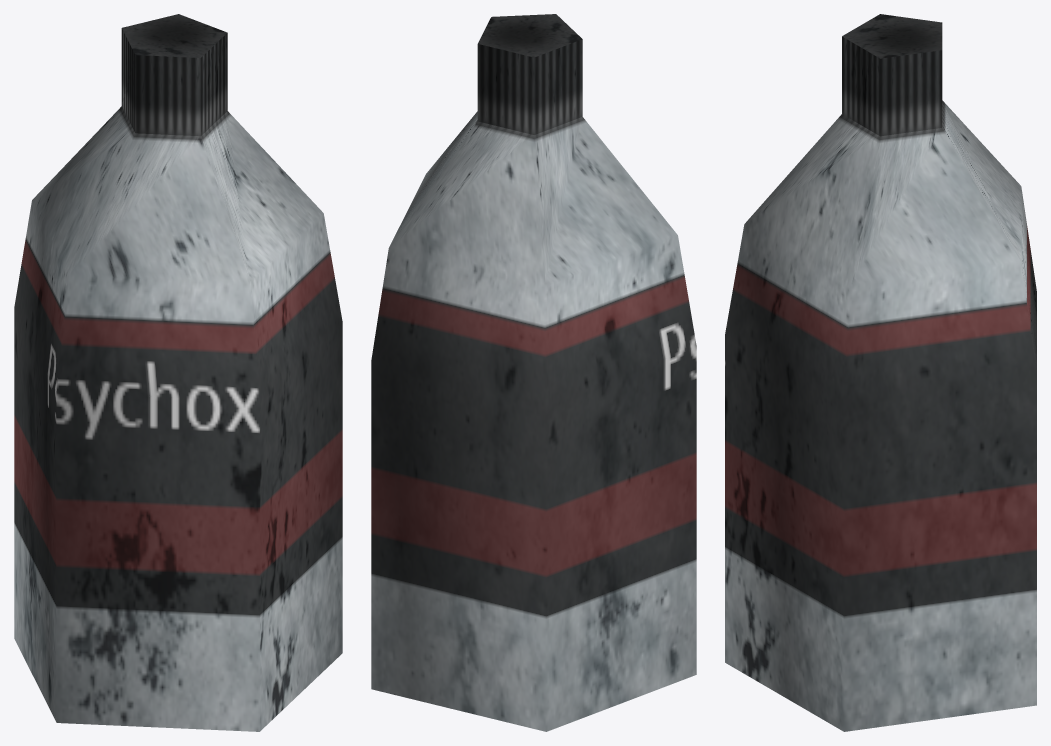
File: medicine_big_D.fbx
3 renders of one model, left to right at view 1: azimuth 30°, elevation 25°; view 2: azimuth 150°, elevation 25°; view 3: azimuth 270°, elevation 25°, orthographic.
Visible parts, largest first — view 1: medicine_big_D; view 2: medicine_big_D; view 3: medicine_big_D.
Part boxes in pixels (box(x1,y1,x2,y2)): medicine_big_D: box(14, 14, 342, 731); medicine_big_D: box(371, 14, 696, 731); medicine_big_D: box(725, 14, 1036, 731).
Bounding box in the file's own units: 10.68 × 22.51 × 10.16.
